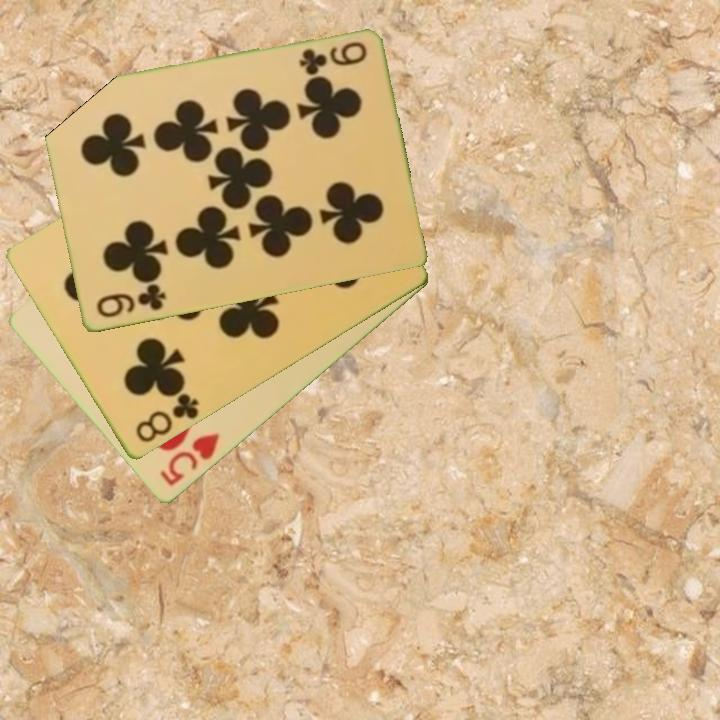5h: (156, 430, 223, 490)
8c: (132, 387, 202, 446)
9c: (92, 281, 169, 321), (295, 38, 370, 76)
